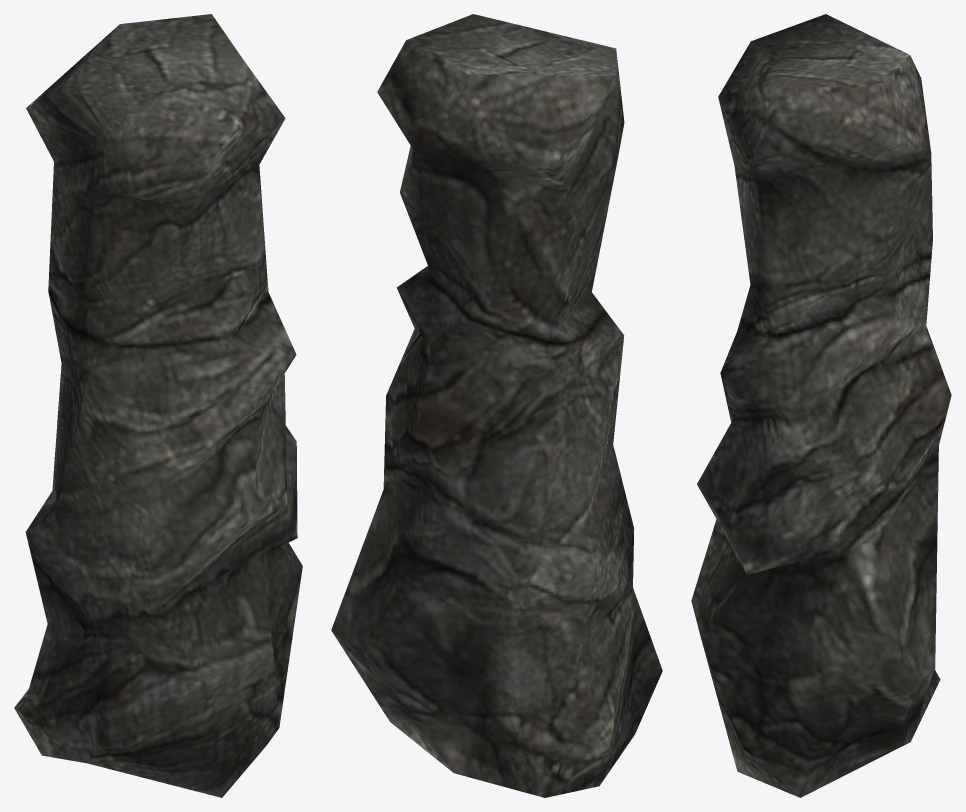
Rendered from Stal4.fbx.
3 renders of one model, left to right at view 1: azimuth 30°, elevation 25°; view 2: azimuth 150°, elevation 25°; view 3: azimuth 270°, elevation 25°, orthographic. The views are drawn at different scales.
Parts seen in each view (by area): view 1: Sta4; view 2: Sta4; view 3: Sta4.
Boxes of the visible parts, left/top/right/bottom form: Sta4: left=14, top=14, right=302, bottom=797; Sta4: left=331, top=14, right=662, bottom=797; Sta4: left=691, top=14, right=951, bottom=797.
Size of the model in its own units: 2.56 by 6.74 by 2.23.
